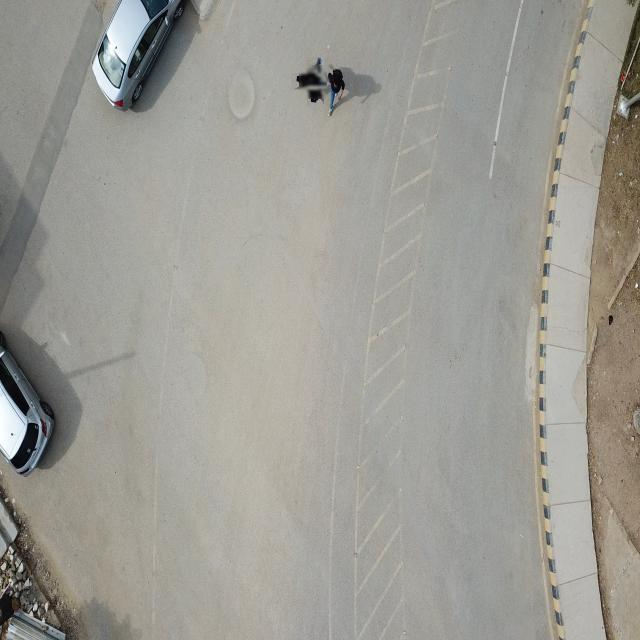Manusia: (299, 65, 334, 100), (327, 66, 345, 118)
